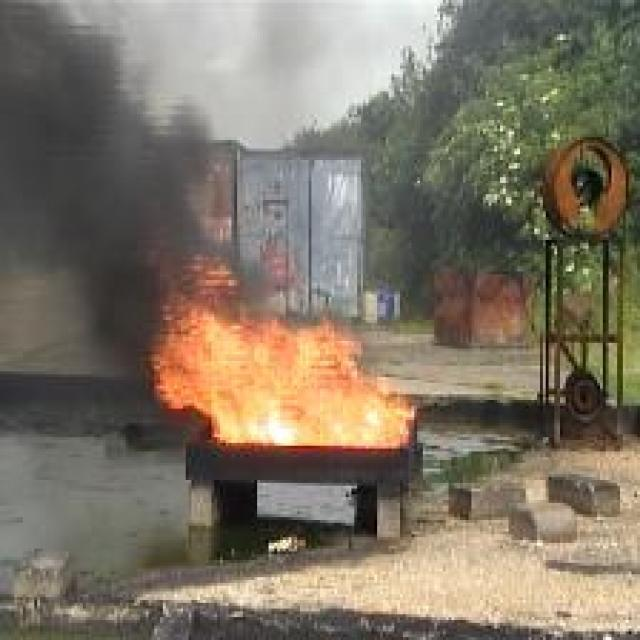Fire: (152, 244, 418, 447)
